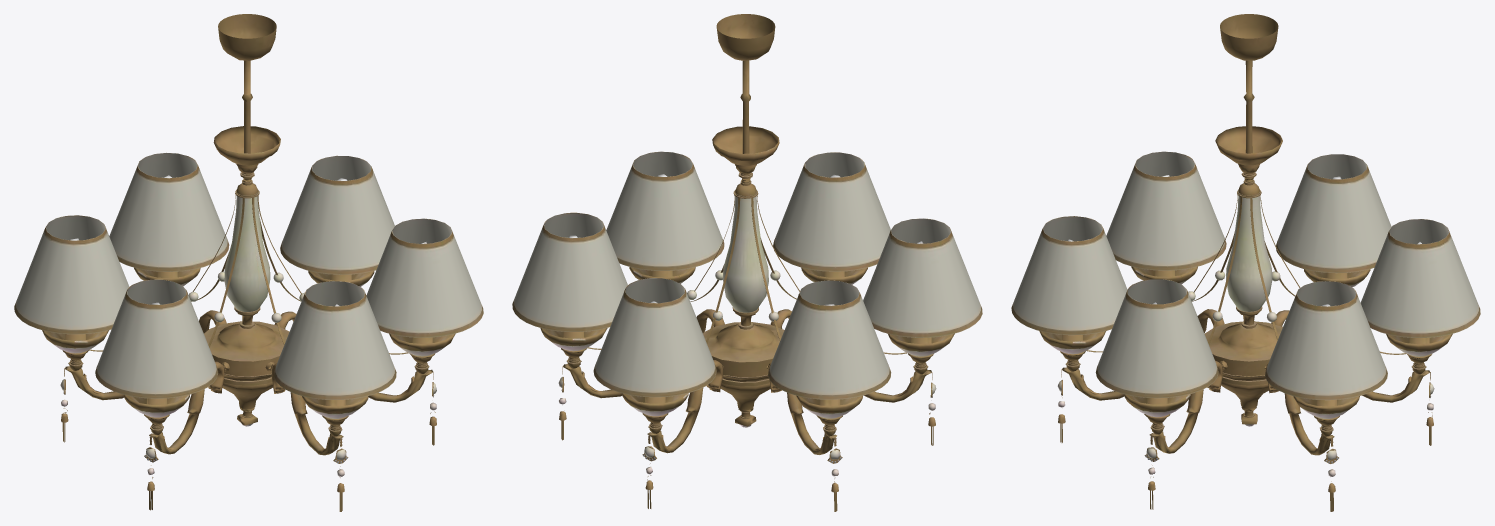
File: chandelier.glb
The picture shows the model from 3 angles, left to right: view 1: azimuth 30°, elevation 25°; view 2: azimuth 150°, elevation 25°; view 3: azimuth 270°, elevation 25°; orthographic projection.
Parts seen in each view (by area): view 1: Chandelier_01; view 2: Chandelier_01; view 3: Chandelier_01.
Part boxes in pixels (x1,y1,x2,y2): Chandelier_01: [14, 14, 483, 511]; Chandelier_01: [512, 14, 982, 511]; Chandelier_01: [1011, 14, 1480, 511].
Bounding box in the file's own units: 0.7465 × 0.7982 × 0.8155.
Materials: 2 (1 with a texture image).
